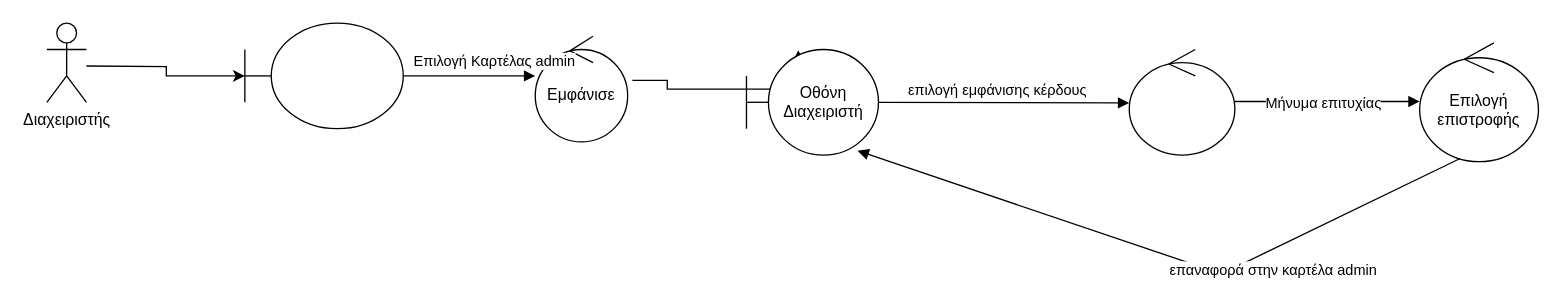
This 1562x308 diagram has some shape labels left out. The centre of each missing label's shape, as x and y in pixels:
"Αρχικό Μενού" belongs at [323,75].
"Επεξεργασία αιτήματος" belongs at [1181,101].
